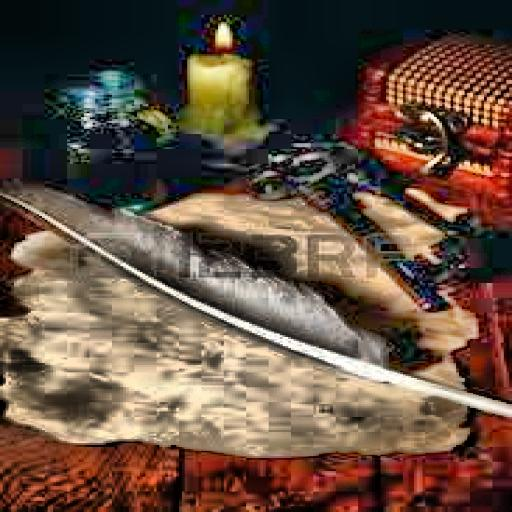fire: (204, 22, 235, 54)
